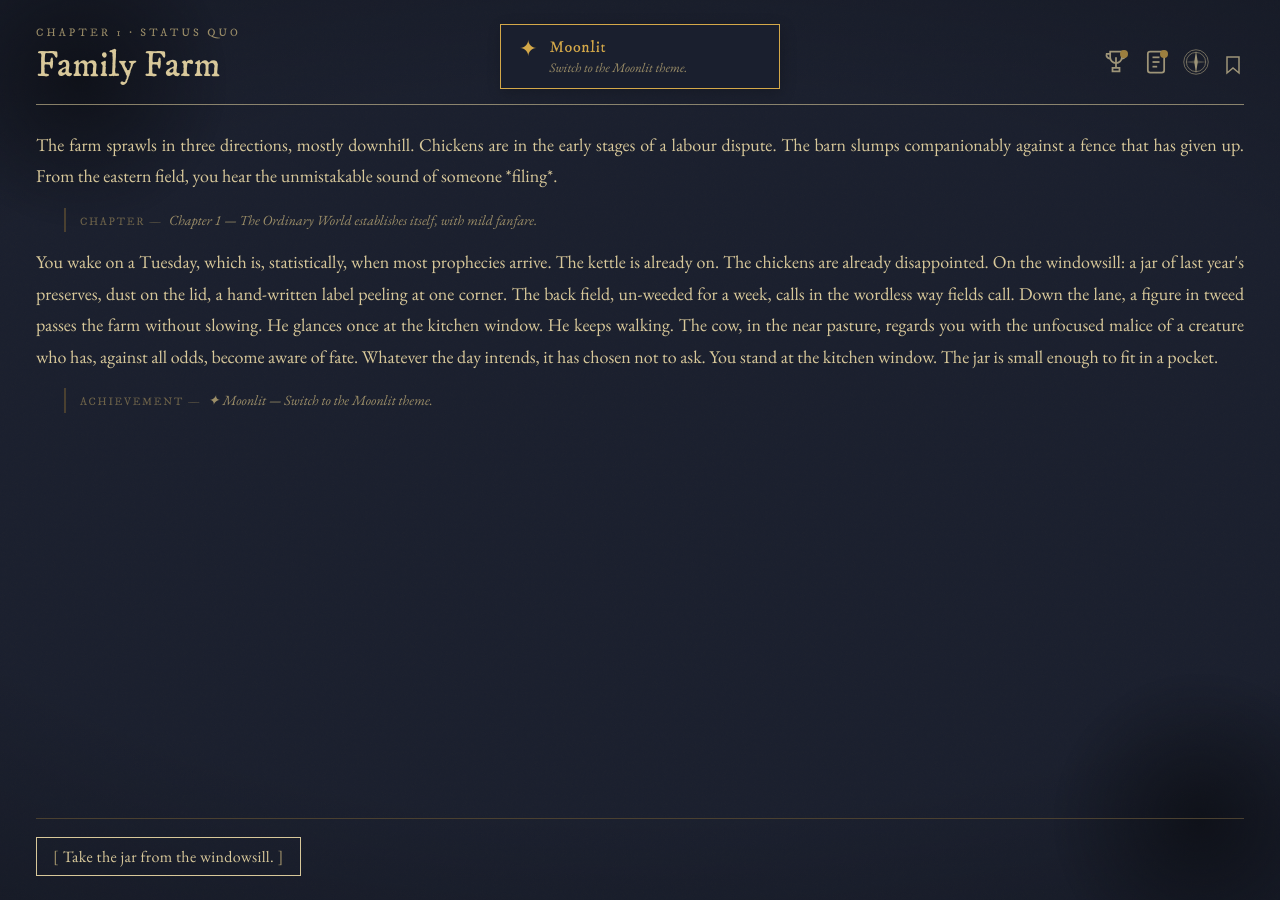
it: WorldPanel trophy chrome › opens the achievements modal when trophy is clicked
Click the button named "view achievements". click: (1116, 64)
box: [1102, 48, 1130, 80]
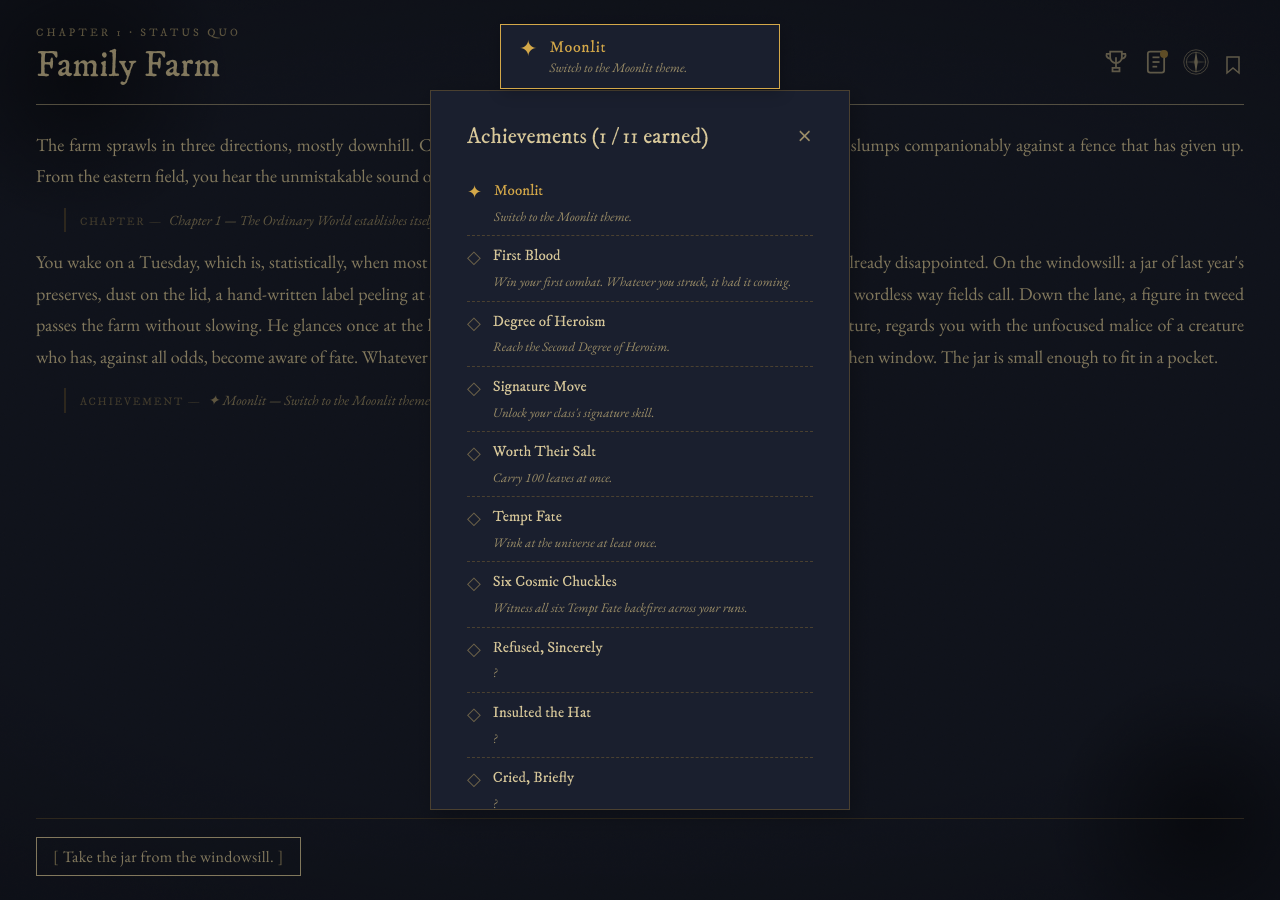
Now the dialog is shown, box [430, 90, 850, 810]
